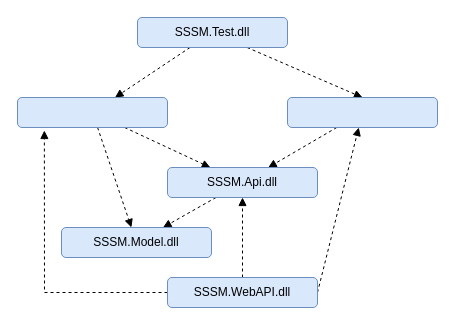
This 455x325 diagram has some shape labels left out. The shapes that lost their labels are listed below. From the top down, each one's box as (x1, y1, x2, y2) in pixels, then its label:
(16, 96, 168, 128): SSSM.Repositories.dll
(286, 96, 438, 128): SSSM.Services.dll
